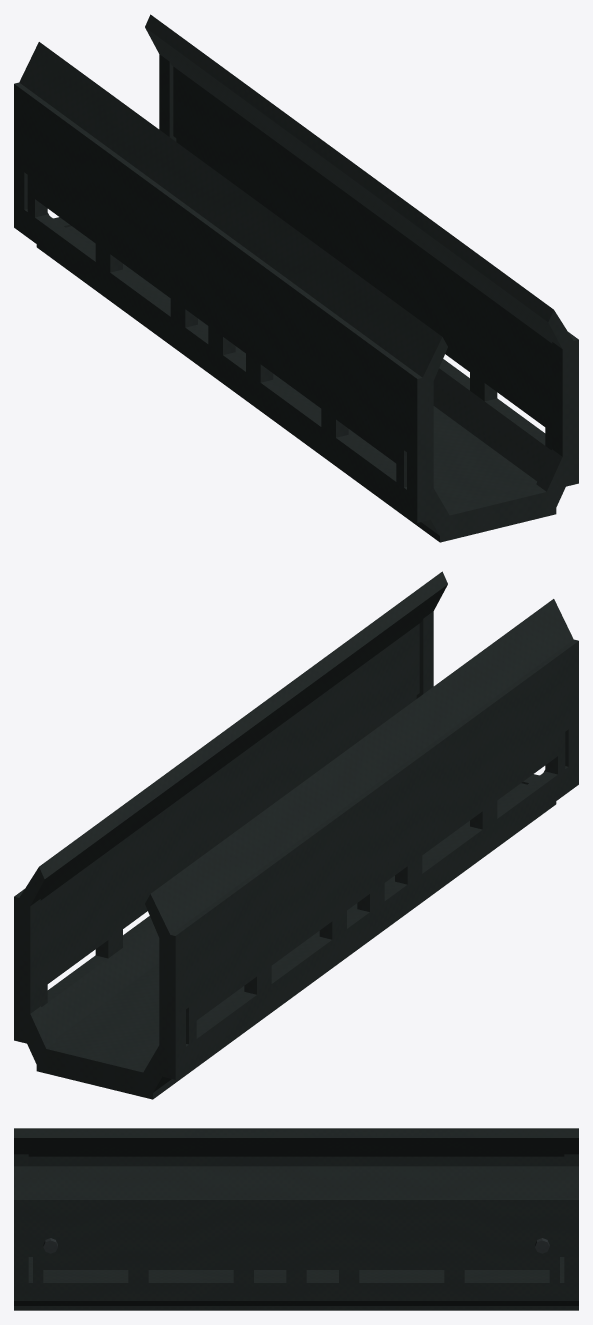
Rendered from ar_long.glb.
3 renders of one model, top to bottom at view 1: azimuth 30°, elevation 25°; view 2: azimuth 150°, elevation 25°; view 3: azimuth 270°, elevation 25°, orthographic. The views are drawn at different scales.
Visible parts, largest first — view 1: handguard__ar_long_LOD0_RAID_Secondary_Original_polymer, handguard__ar_long_LOD1_RAID_Secondary_Original_polymer; view 2: handguard__ar_long_LOD0_RAID_Secondary_Original_polymer, handguard__ar_long_LOD1_RAID_Secondary_Original_polymer; view 3: handguard__ar_long_LOD0_RAID_Secondary_Original_polymer, handguard__ar_long_LOD1_RAID_Secondary_Original_polymer, handguard__ar_long_LOD0_RAID_Secondary_Original_steel.
Part boxes in pixels (bbox=[...]): handguard__ar_long_LOD0_RAID_Secondary_Original_polymer: bbox=[14, 14, 578, 542]; handguard__ar_long_LOD1_RAID_Secondary_Original_polymer: bbox=[29, 139, 551, 510]; handguard__ar_long_LOD0_RAID_Secondary_Original_polymer: bbox=[14, 571, 578, 1099]; handguard__ar_long_LOD1_RAID_Secondary_Original_polymer: bbox=[41, 696, 564, 1067]; handguard__ar_long_LOD0_RAID_Secondary_Original_polymer: bbox=[14, 1128, 578, 1310]; handguard__ar_long_LOD1_RAID_Secondary_Original_polymer: bbox=[33, 1257, 557, 1300]; handguard__ar_long_LOD0_RAID_Secondary_Original_steel: bbox=[43, 1238, 549, 1253].
Size of the model in its own units: 0.093 by 0.108 by 0.385.
2 materials, 2 textured.
